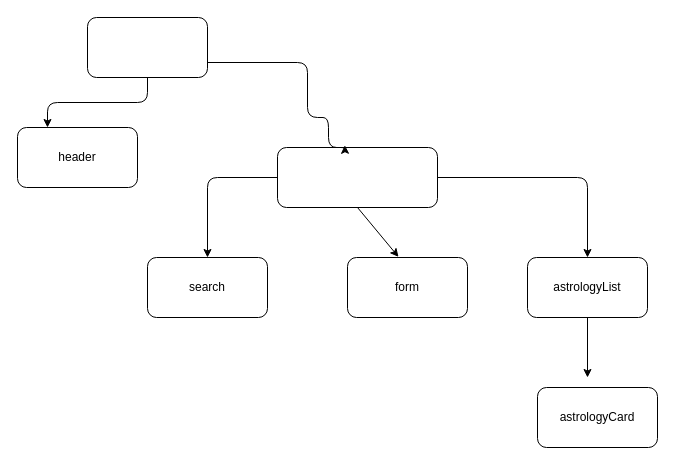
The diagram is 675 pixels wide and 465 high, and some of its shapes have lost their labels. Each missing label, with the centre of its shape:
app: pixel 147 47
AstrologyPage: pixel 357 177
